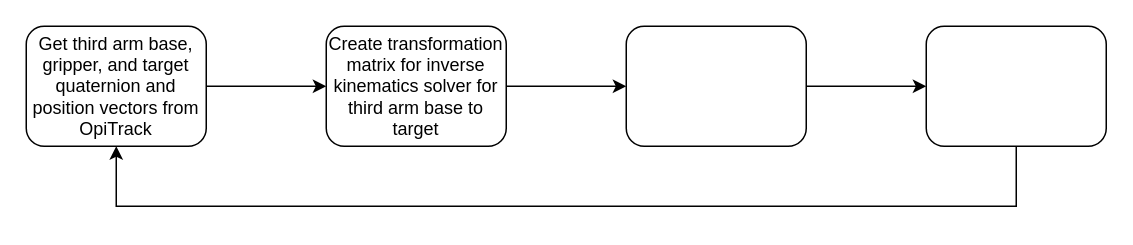
The diagram is 1133 pixels wide and 245 high, and some of its shapes have lost their labels. The shapes that lost their labels are listed below. From the top down, each one's centre as x and y in pixels, then its label:
At point 715,85: "Run inverse kinematics solver and use outputs in each servo's PID".
At point 1015,85: "Move servos with controllers according to PID outputs and safety tolerances".
